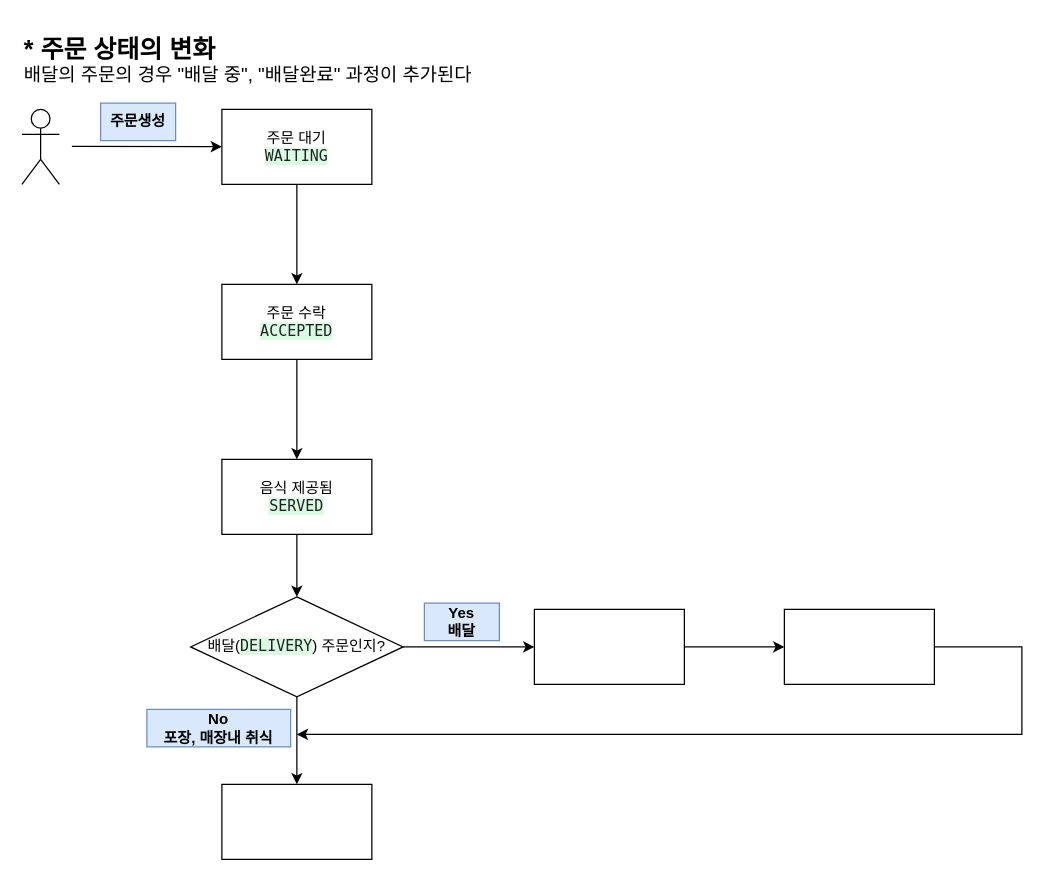
Image size: 1054x881. Some labels were removed from this diagram. Each missing label, with the box of its shape:
Actor: (21, 108, 59, 184)
배달 중 DELIVERING: (533, 608, 684, 684)
배달완료 DELIVERED: (783, 608, 934, 684)
주문완료 COMPLETED: (221, 783, 372, 859)
